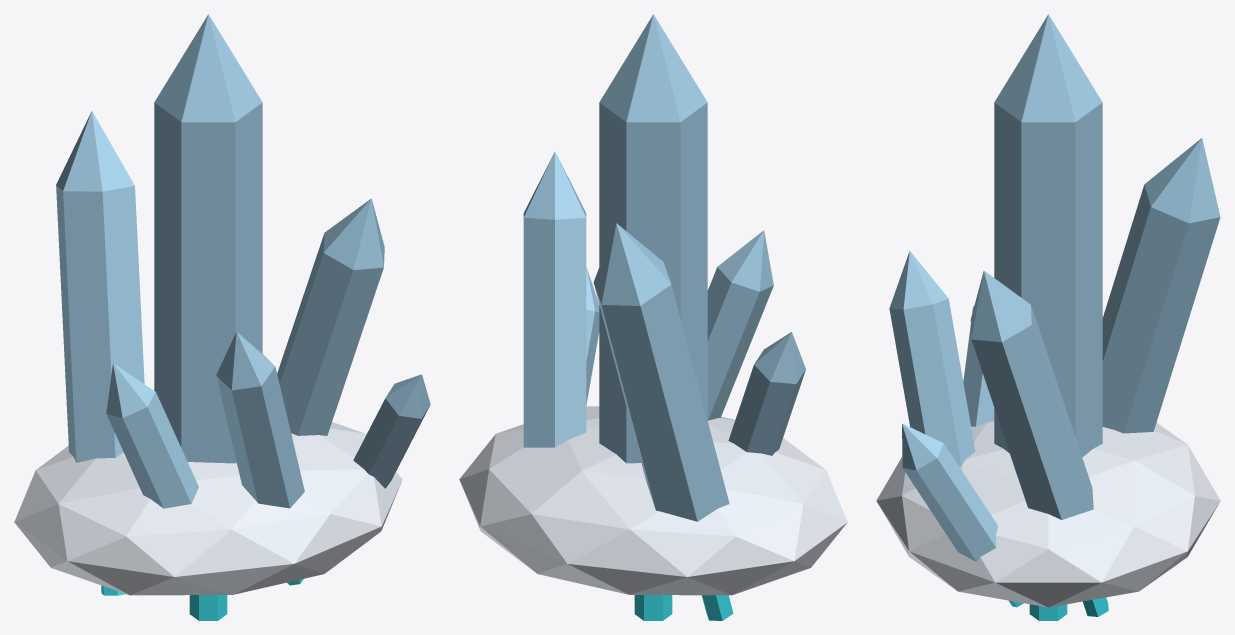
The model's file is ice_crystals.glb.
3 renders of one model, left to right at view 1: azimuth 30°, elevation 25°; view 2: azimuth 150°, elevation 25°; view 3: azimuth 270°, elevation 25°, orthographic.
Parts seen in each view (by area): view 1: ice_crystals_Glass_ice, ice_crystals_Main, ice_crystals_Neon_glow_cyan; view 2: ice_crystals_Glass_ice, ice_crystals_Main, ice_crystals_Neon_glow_cyan; view 3: ice_crystals_Glass_ice, ice_crystals_Main, ice_crystals_Neon_glow_cyan.
Boxes of the visible parts, <box> form: ice_crystals_Glass_ice: <box>56,14,430,508</box>; ice_crystals_Main: <box>14,422,402,595</box>; ice_crystals_Neon_glow_cyan: <box>101,579,303,620</box>; ice_crystals_Glass_ice: <box>523,14,805,521</box>; ice_crystals_Main: <box>459,406,847,595</box>; ice_crystals_Neon_glow_cyan: <box>634,595,733,620</box>; ice_crystals_Glass_ice: <box>889,14,1220,561</box>; ice_crystals_Main: <box>876,421,1220,607</box>; ice_crystals_Neon_glow_cyan: <box>1009,597,1108,620</box>.
Size of the model in its own units: 6.43 by 11 by 5.72.
1 material, 1 textured.
